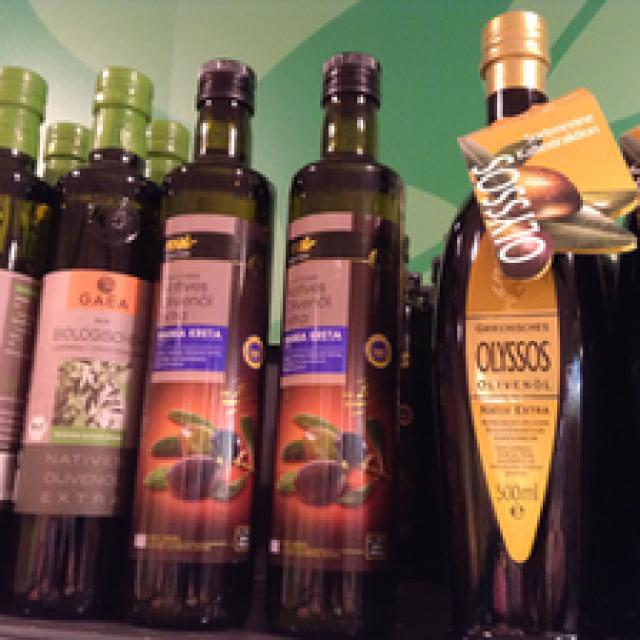groceries: (428, 9, 588, 634), (0, 63, 157, 614), (263, 49, 406, 637), (134, 54, 272, 632)
